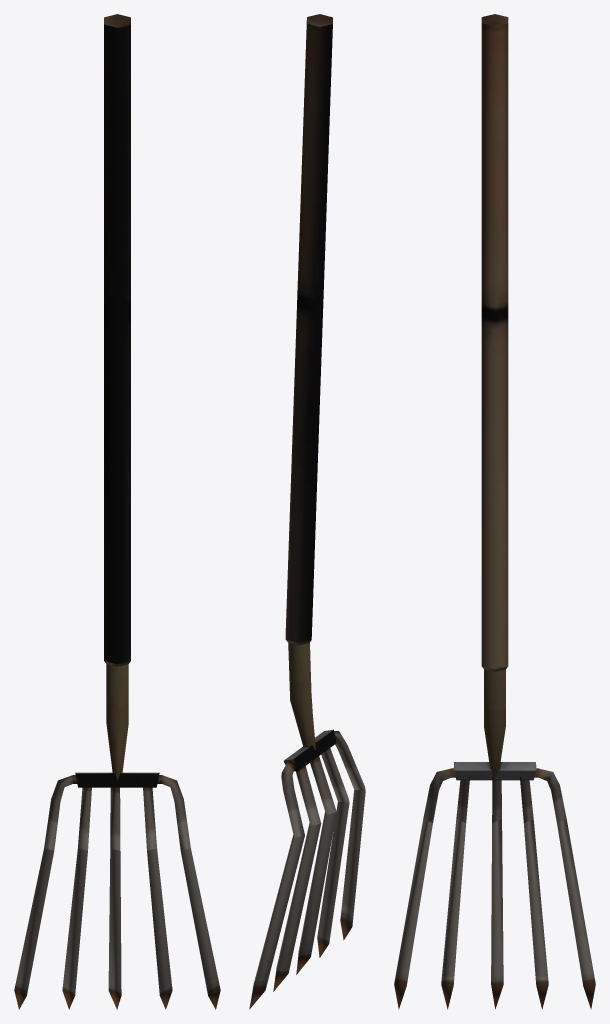
3 renders of one model, left to right at view 1: azimuth 90°, elevation 25°; view 2: azimuth 150°, elevation 25°; view 3: azimuth 270°, elevation 25°, orthographic. The views are drawn at different scales.
Parts seen in each view (by area): view 1: body0_model0_lod0_mesh0; view 2: body0_model0_lod0_mesh0; view 3: body0_model0_lod0_mesh0.
Boxes of the visible parts, x1,y1,x2,y2 form: body0_model0_lod0_mesh0: (14,14,220,1009); body0_model0_lod0_mesh0: (249,14,365,1009); body0_model0_lod0_mesh0: (394,14,595,1009).
Bounding box in the file's own units: 3.47 × 64.01 × 11.96.
1 material, 1 textured.
